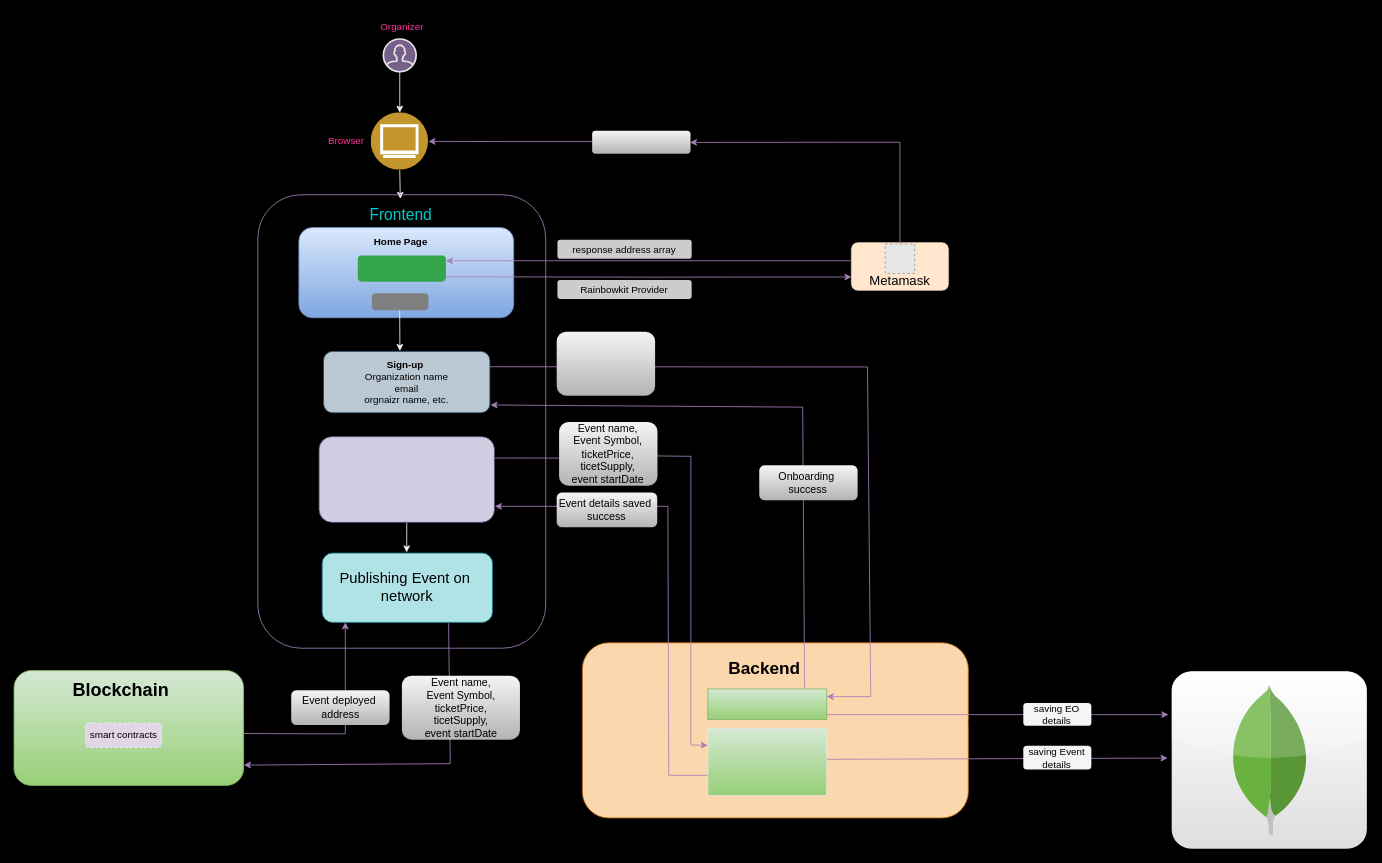
Image size: 1382x863. Some labels were removed from this diagram. Grey dashed boxes stand in for pictures. The shapes that lost their labels are listed below. From the top down, each one's centre as x and y in pixels, then its label:
At pixel 641 141: "Injects to browser".
At pixel 401 268: "connect".
At pixel 399 301: "EO".
At pixel 605 363: "Orgnaizer name, Orgnaisation name, email, wallet address,".
At pixel 406 479: "Event details Event Name, Ticket supply Start date Ticket price Event Symbol".
At pixel 767 704: "Onboarding EO".
At pixel 767 762: "Register & Validating Event data".
